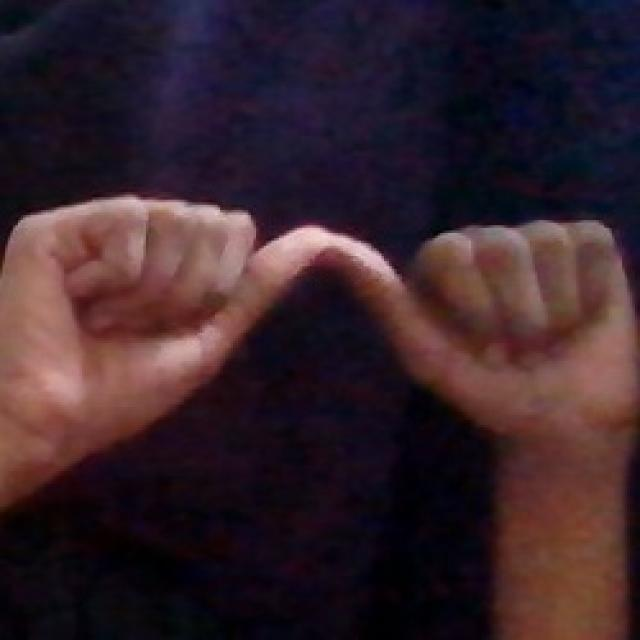Alphabet-A: (9, 194, 640, 444)
